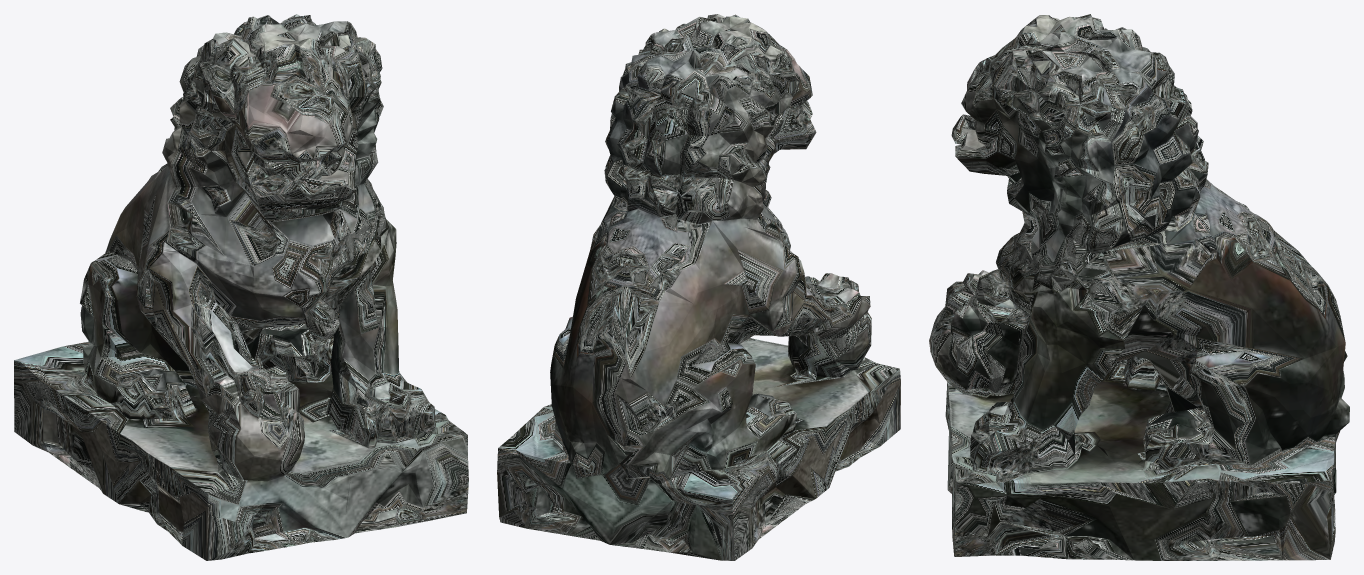
File: free-stone-lion.glb
3 renders of one model, left to right at view 1: azimuth 30°, elevation 25°; view 2: azimuth 150°, elevation 25°; view 3: azimuth 270°, elevation 25°, orthographic. The views are drawn at different scales.
Parts seen in each view (by area): view 1: Object_4; view 2: Object_4; view 3: Object_4.
Boxes of the visible parts, left/top/right/bottom form: Object_4: left=14, top=14, right=468, bottom=560; Object_4: left=497, top=14, right=900, bottom=560; Object_4: left=929, top=14, right=1349, bottom=560.
Bounding box in the file's own units: 1.01 × 1.7 × 1.36.
1 material, 1 textured.
